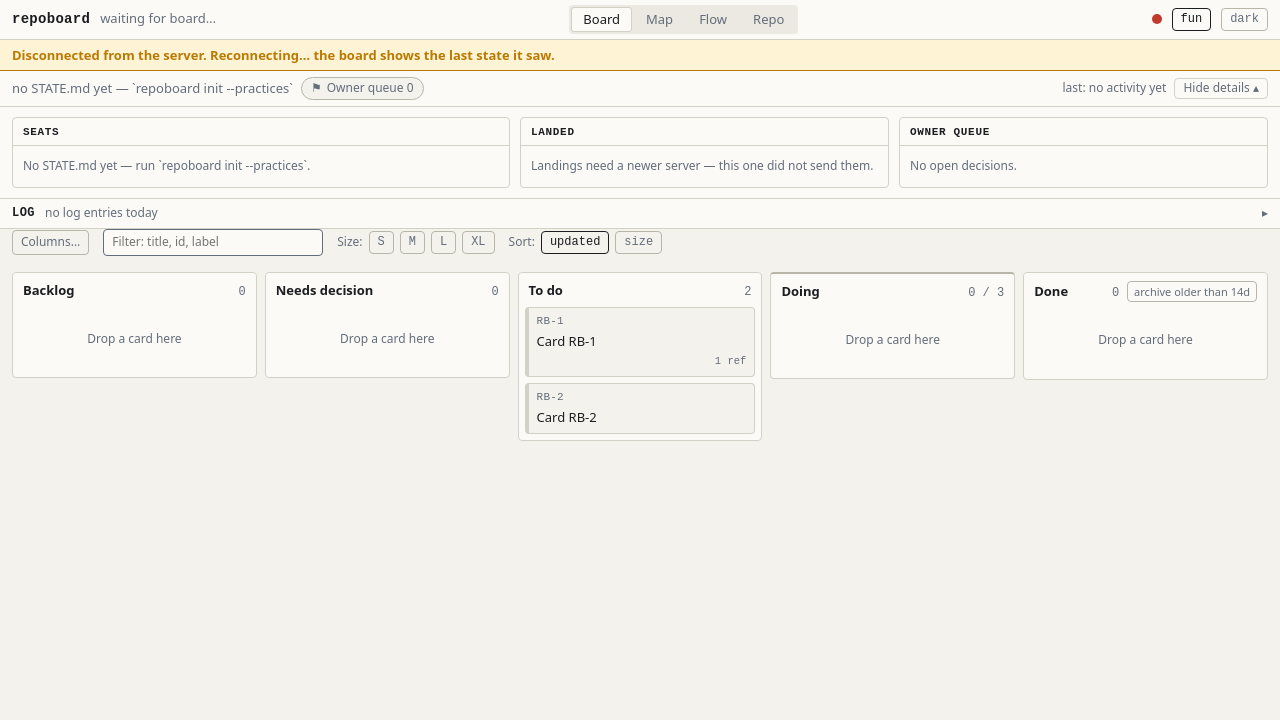
drawer References (K7) › a failed fetch shows an error state, and a card without refs has no section
What coordinates should you click on to do the following:
click the button titled "Open RB-1"
I would click on:
 (550, 321)
Its box is [537,314,564,329].
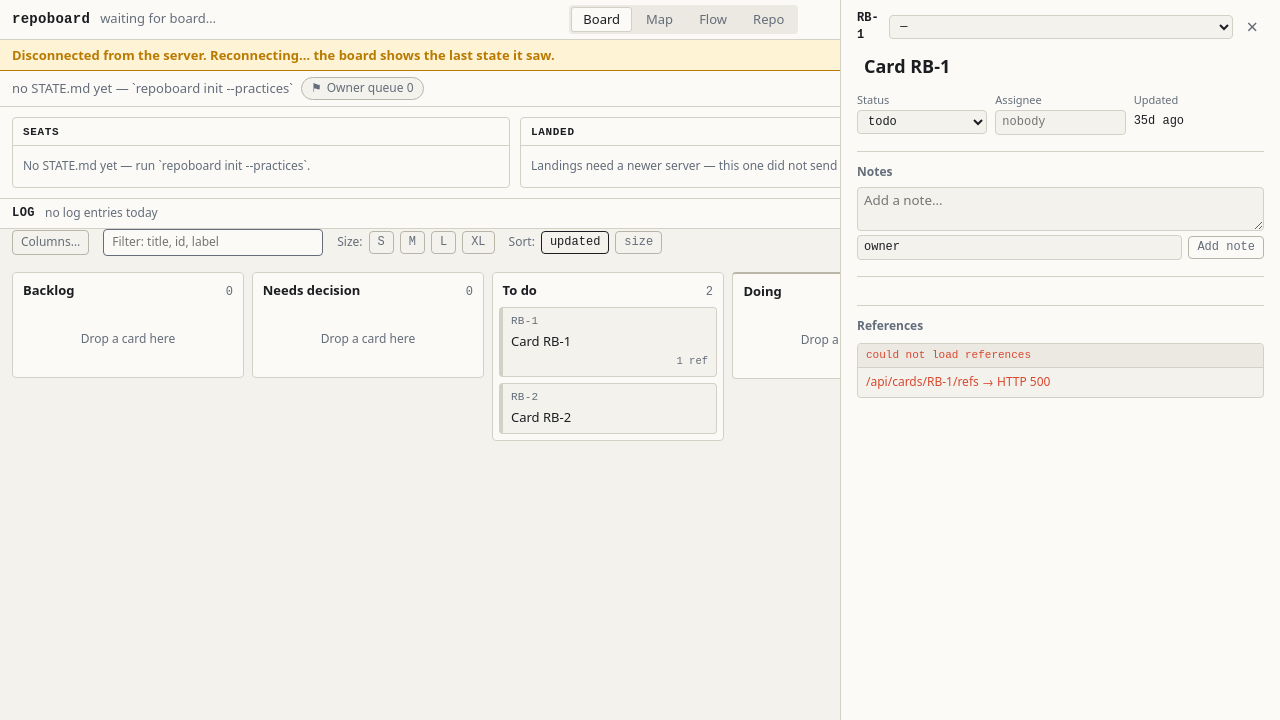
Expected: the message "could not load references /api/cards/RB-1/refs → HTTP 500" is shown, [857,343,1264,398]
What coordinates should you click on to do the following:
click the button titled "Open RB-2"
I would click on:
 (525, 397)
Its box is [511,390,538,405].
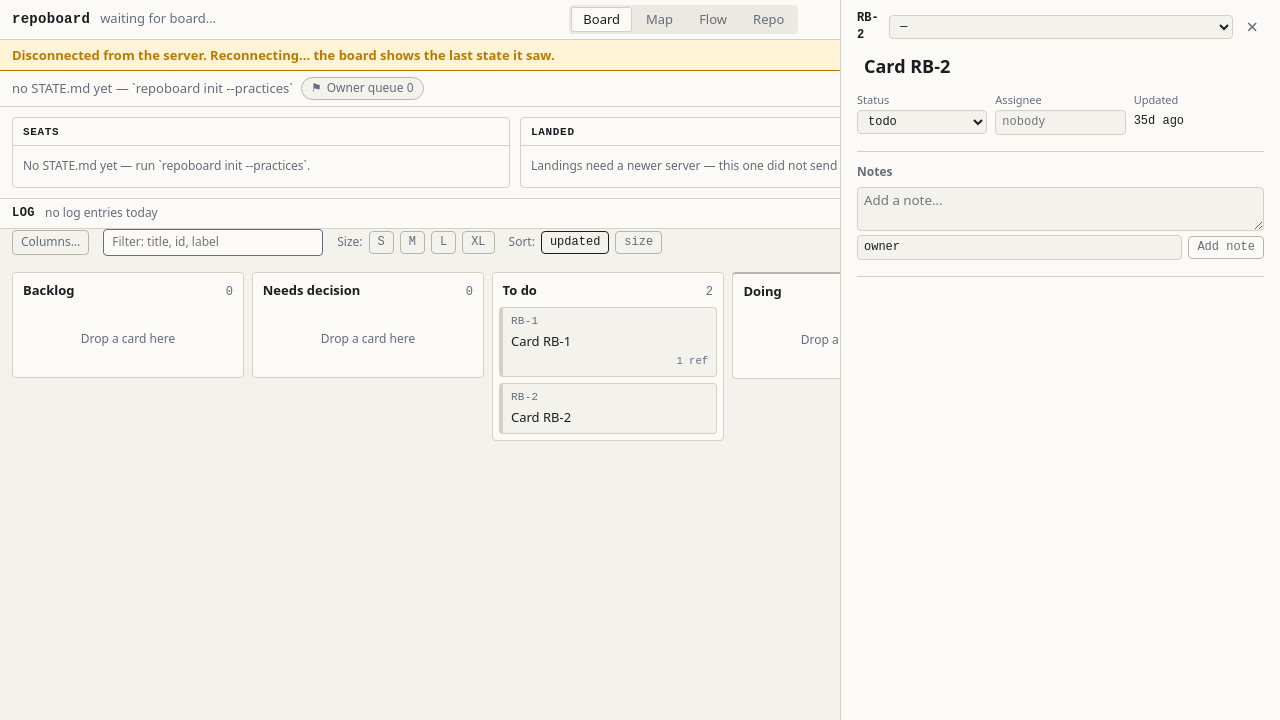
Expected: the element with test id "drawer-refs" is gone
